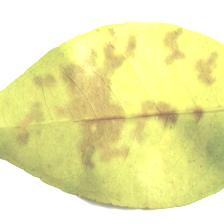black spot: (40, 63, 196, 157)
